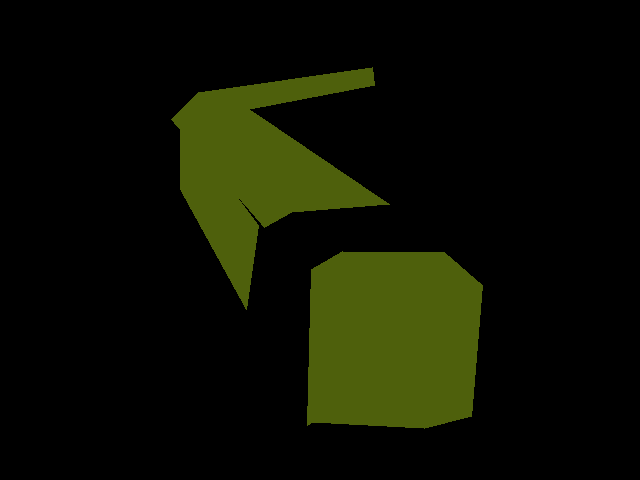Train: (171, 67, 482, 428)
